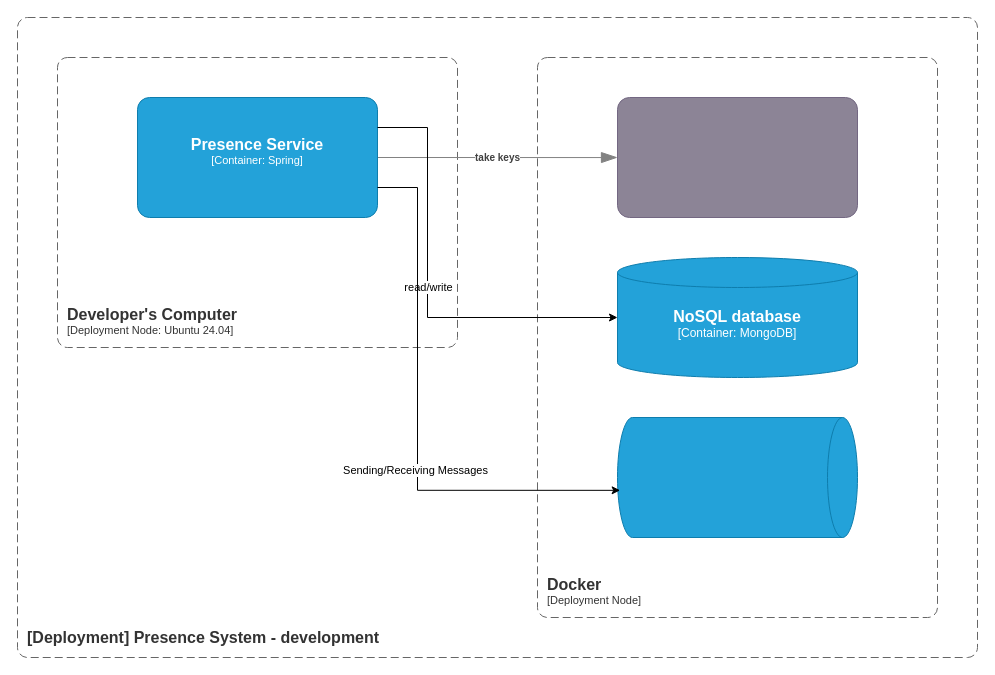
The diagram is 995 pixels wide and 675 high, and some of its shapes have lost their labels. Here are the shapes that lost their labels. From the top down, the box of each, then its label:
(616, 96, 858, 218): Identity and AccessManagement (IAM) [Software System]
(616, 416, 858, 538): Broker [Container: Apache Kafka]
